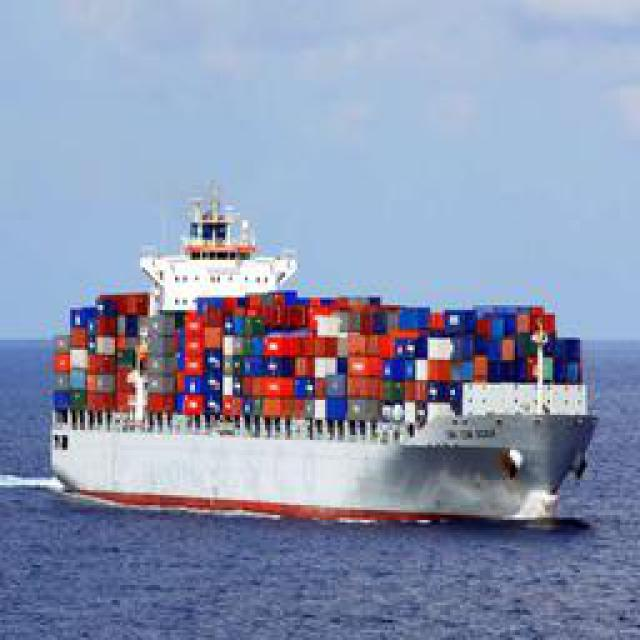Ship: (38, 172, 606, 525)
